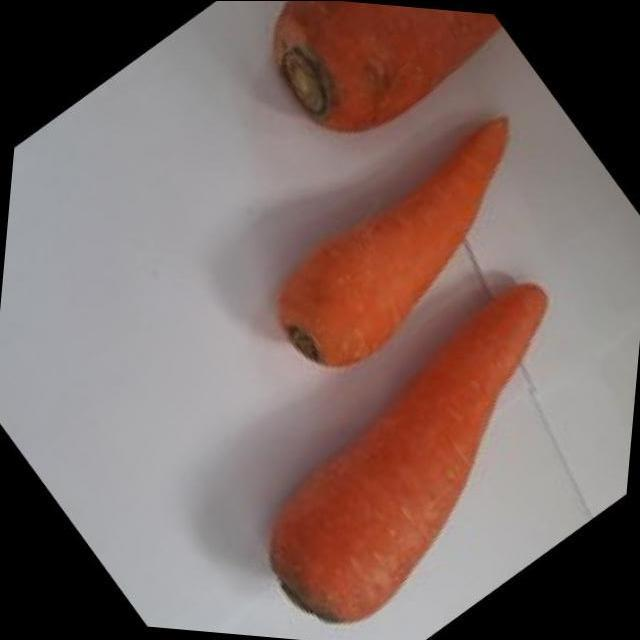carrot: (175, 231, 640, 640), (228, 72, 593, 420), (207, 0, 513, 193)
